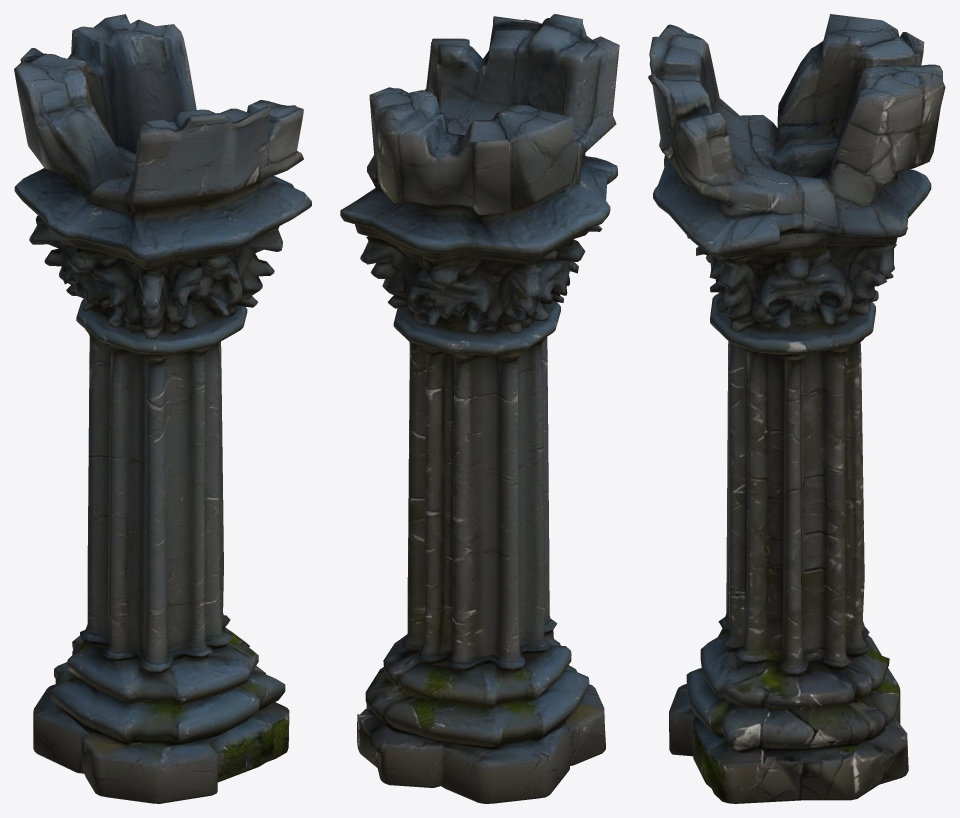
The model's file is pillar.glb.
3 views of the same model, side by side, from view 1: azimuth 30°, elevation 25°; view 2: azimuth 150°, elevation 25°; view 3: azimuth 270°, elevation 25° (orthographic).
Visible parts, largest first — view 1: tripo_node_e21c2450-df7f-42ce-b3b5-0c74296d95ee; view 2: tripo_node_e21c2450-df7f-42ce-b3b5-0c74296d95ee; view 3: tripo_node_e21c2450-df7f-42ce-b3b5-0c74296d95ee.
Boxes of the visible parts, x1=… form: tripo_node_e21c2450-df7f-42ce-b3b5-0c74296d95ee: x1=14, y1=14, x2=311, y2=803; tripo_node_e21c2450-df7f-42ce-b3b5-0c74296d95ee: x1=340, y1=14, x2=619, y2=803; tripo_node_e21c2450-df7f-42ce-b3b5-0c74296d95ee: x1=648, y1=14, x2=945, y2=803.
Bounding box in the file's own units: 0.3462 × 0.9995 × 0.3823.
Materials: 1 (1 with a texture image).
